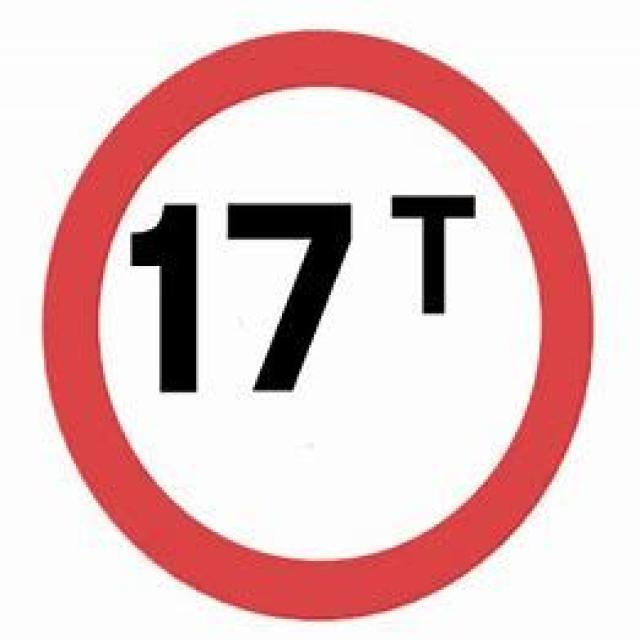load_limit: (39, 29, 591, 614)
